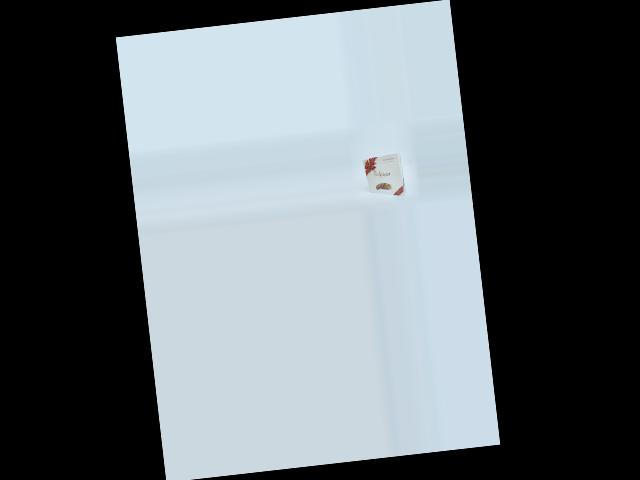chocolate: (361, 152, 414, 202)
